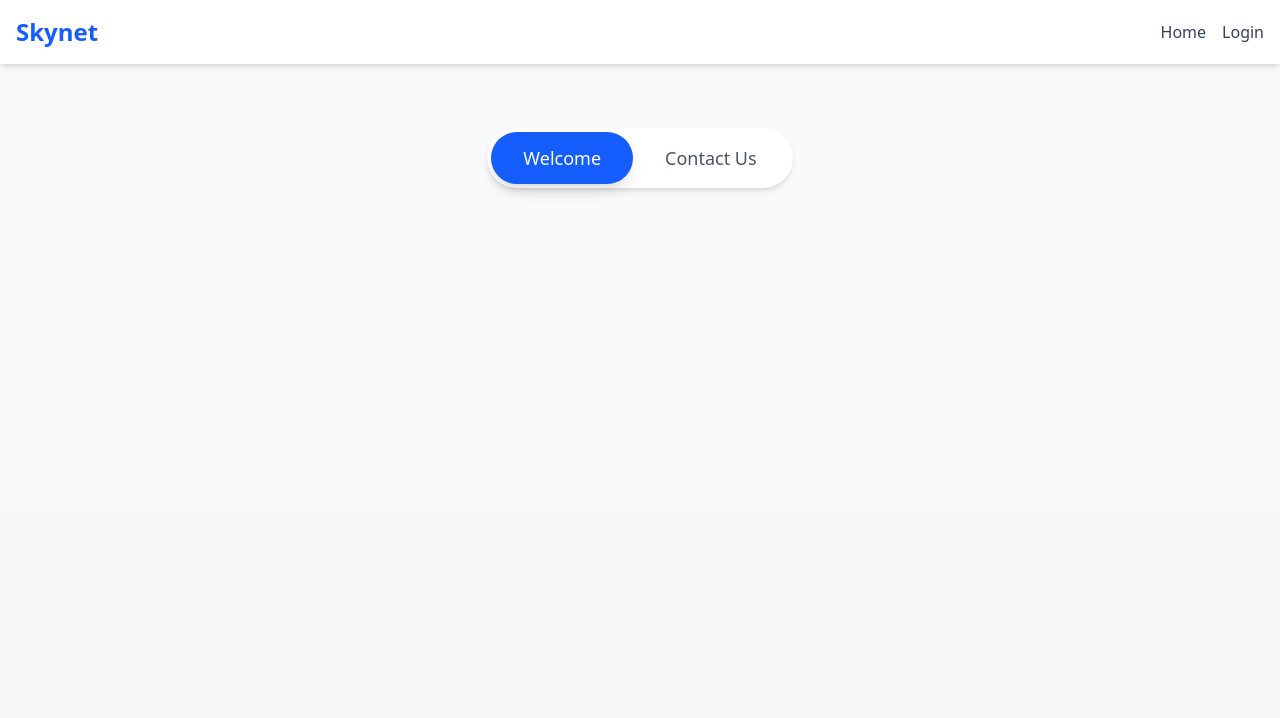
Test: Contact Component › switches from welcome to contact section when button is clicked
Note: Click the Contact Us button
Click the button "Contact Us": (711, 158) [633,132,789,184]
Wait 300 ms
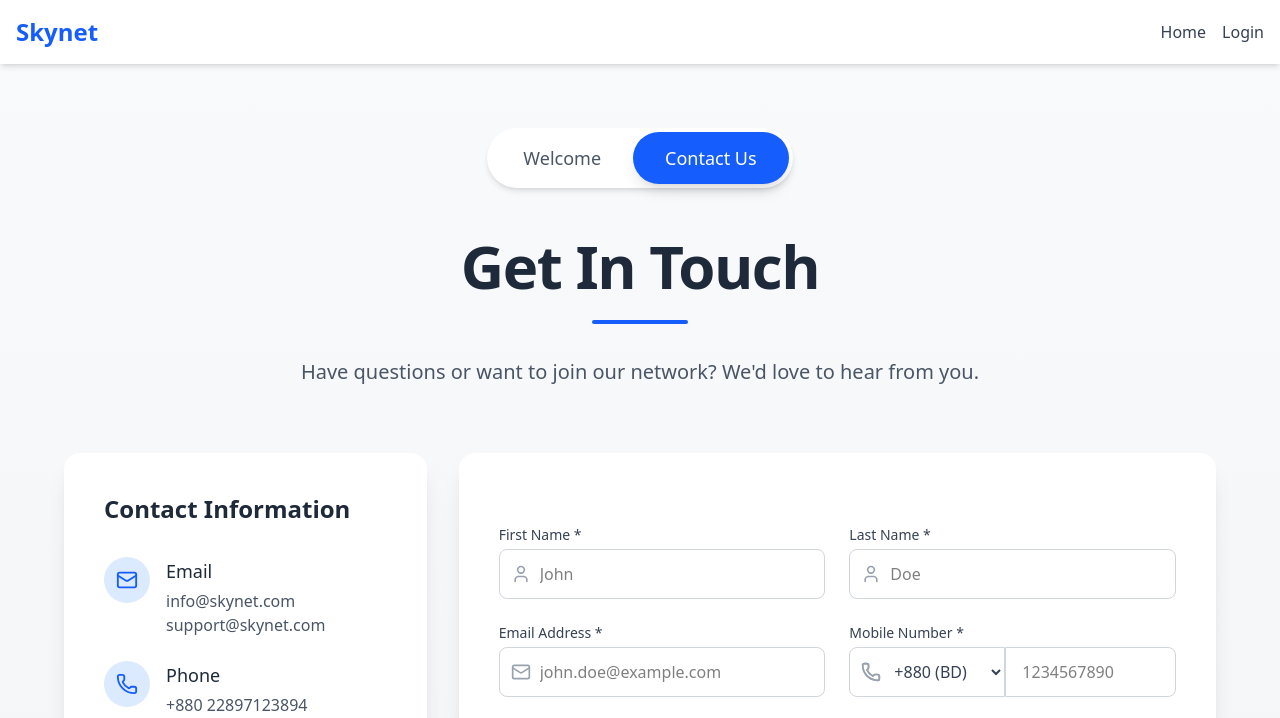
Now the heading "Get In Touch" is shown, box [461,225,819,307]
